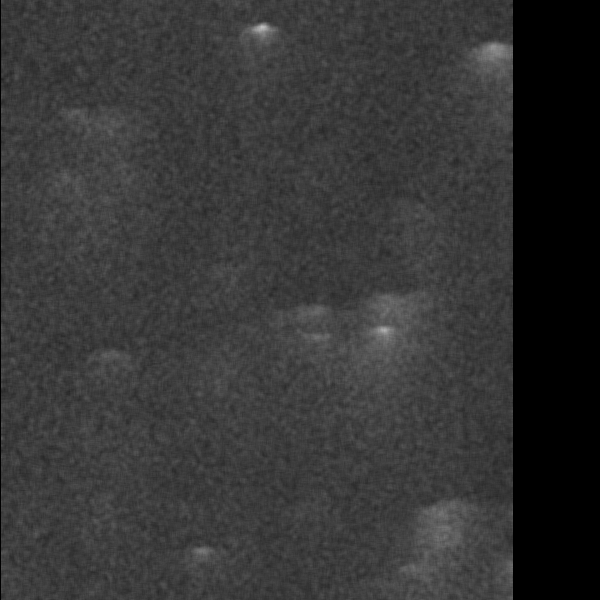spark: (118, 393, 206, 433), (81, 52, 151, 95), (123, 563, 210, 596), (140, 189, 196, 236), (450, 22, 503, 67), (40, 524, 106, 559), (136, 483, 192, 515)
